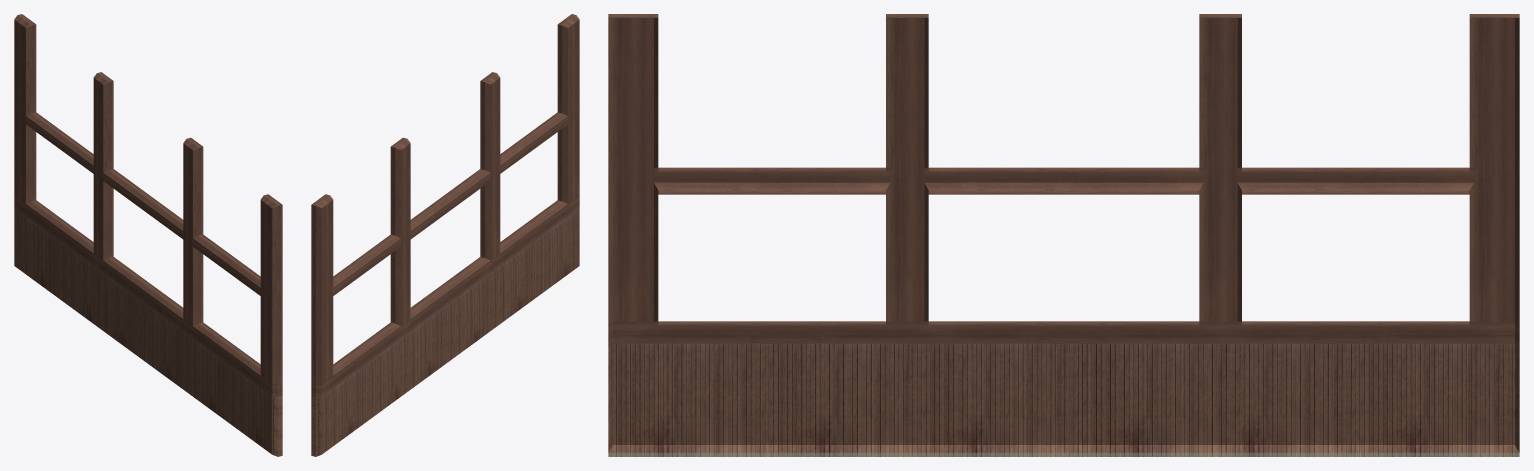
Rendered from R_Molding.fbx.
3 views of the same model, side by side, from view 1: azimuth 30°, elevation 25°; view 2: azimuth 150°, elevation 25°; view 3: azimuth 270°, elevation 25° (orthographic). The views are drawn at different scales.
Parts seen in each view (by area): view 1: Side Molding; view 2: Side Molding; view 3: Side Molding.
Part boxes in pixels (x1,y1,x2,y2): Side Molding: (14, 14, 282, 456); Side Molding: (311, 14, 579, 456); Side Molding: (608, 14, 1519, 456).
Bounding box in the file's own units: 80 × 2101 × 3951.
Materials: 1 (1 with a texture image).
